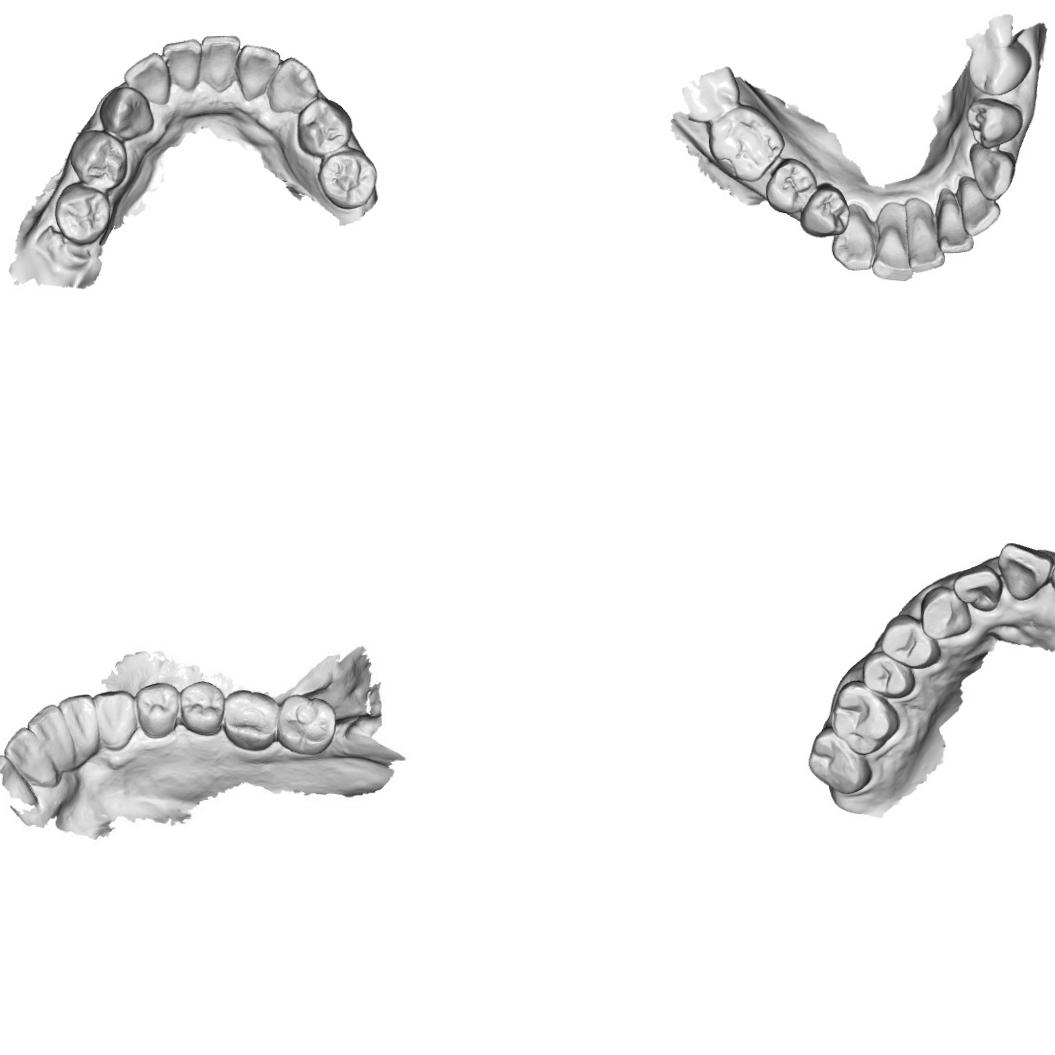canine: (97, 84, 157, 140), (831, 202, 878, 273), (266, 56, 322, 115), (918, 584, 973, 641), (93, 684, 139, 750), (969, 141, 1016, 201)
incisor: (996, 541, 1054, 602), (3, 725, 56, 781), (870, 220, 914, 282), (957, 174, 1001, 236), (233, 44, 280, 100), (122, 50, 172, 102), (936, 187, 973, 257), (26, 702, 70, 760), (906, 213, 947, 274), (952, 564, 1004, 611), (198, 33, 242, 88), (162, 38, 206, 90), (60, 692, 101, 747)
molar: (707, 102, 786, 184), (828, 678, 900, 755), (806, 725, 874, 797), (220, 687, 281, 752), (276, 692, 336, 756)
premolar: (52, 180, 112, 246), (68, 128, 130, 191), (319, 148, 379, 211), (880, 612, 942, 669), (295, 98, 353, 158), (968, 42, 1032, 96), (965, 96, 1024, 150), (764, 156, 818, 214), (798, 182, 852, 238), (134, 679, 182, 740), (859, 649, 916, 700), (178, 678, 224, 737)
